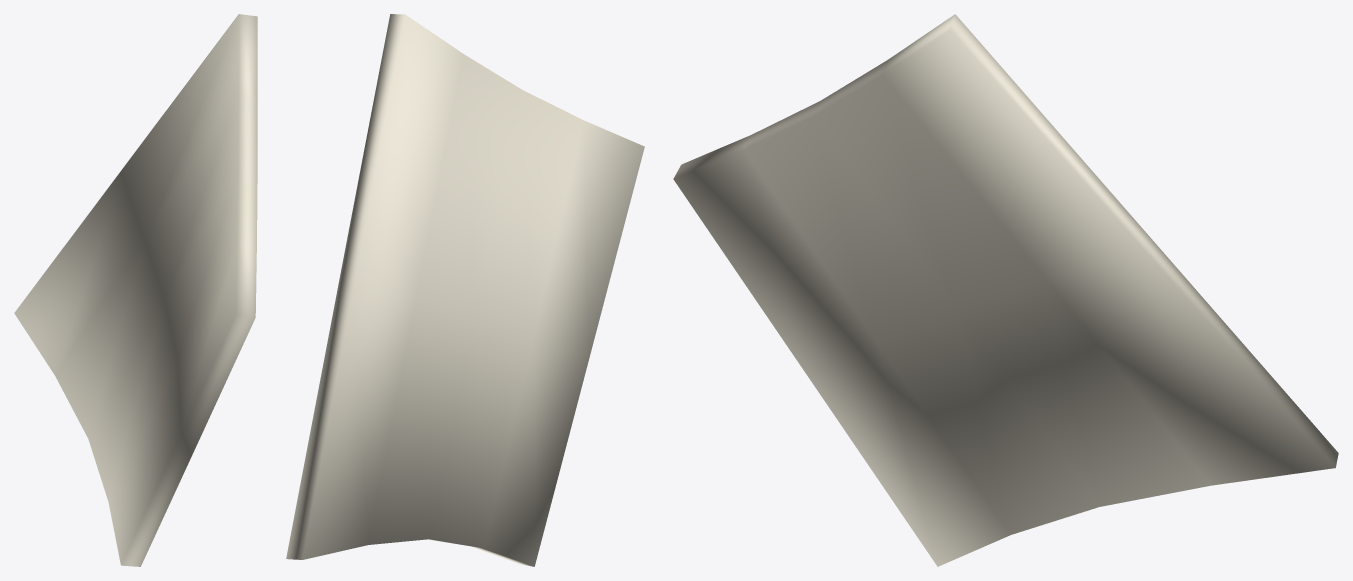
3 views of the same model, side by side, from view 1: azimuth 30°, elevation 25°; view 2: azimuth 150°, elevation 25°; view 3: azimuth 270°, elevation 25° (orthographic). The views are drawn at different scales.
Parts seen in each view (by area): view 1: ZA_3b4d2873e901fa65; view 2: ZA_3b4d2873e901fa65; view 3: ZA_3b4d2873e901fa65.
Boxes of the visible parts, bbox=[...] form: ZA_3b4d2873e901fa65: bbox=[14, 14, 257, 566]; ZA_3b4d2873e901fa65: bbox=[286, 14, 644, 566]; ZA_3b4d2873e901fa65: bbox=[673, 14, 1338, 566].
Size of the model in its own units: 0.00387 by 0.0138 by 0.0136.
